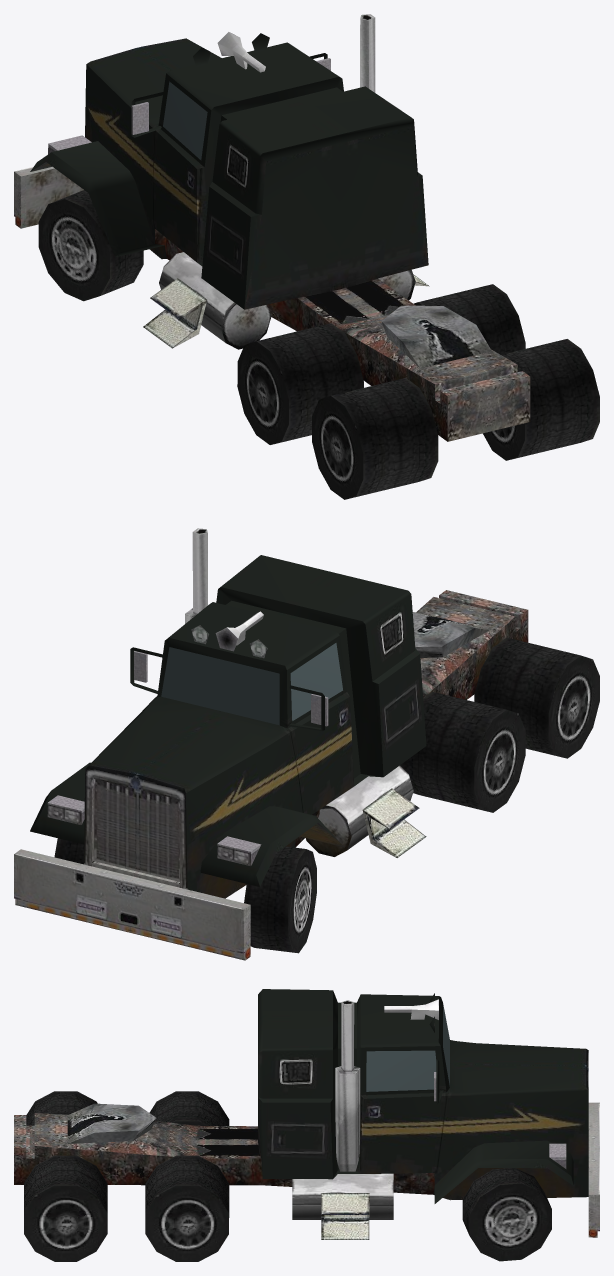
Rendered from p54_27_semi_longnose_black.glb.
The picture shows the model from 3 angles, top to bottom: view 1: azimuth 30°, elevation 25°; view 2: azimuth 150°, elevation 25°; view 3: azimuth 270°, elevation 25°; orthographic projection. The views are drawn at different scales.
Parts seen in each view (by area): view 1: Body, Glass; view 2: Body, Glass; view 3: Body, Glass.
Part boxes in pixels (x1,y1,x2,y2): Body: (14, 14, 599, 499); Glass: (163, 81, 207, 160); Body: (14, 528, 599, 960); Glass: (161, 643, 342, 725); Body: (14, 989, 599, 1261); Glass: (366, 1003, 449, 1091).
Bounding box in the file's own units: 3.19 × 3.57 × 7.73.
Materials: 2 (2 with a texture image).
